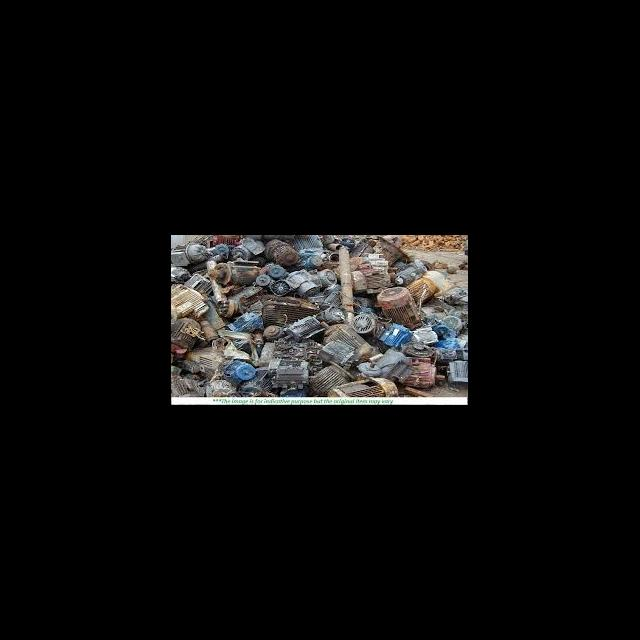metal: (320, 318, 378, 369), (372, 282, 424, 328), (266, 353, 318, 395), (332, 242, 358, 319), (206, 255, 264, 289), (322, 372, 398, 397), (406, 267, 451, 305), (398, 354, 443, 391), (172, 279, 210, 321), (278, 313, 324, 347), (308, 359, 354, 393), (172, 315, 204, 357), (374, 317, 414, 350), (262, 236, 302, 269), (282, 266, 322, 298), (218, 353, 256, 384), (225, 305, 262, 335), (442, 354, 468, 381), (348, 311, 378, 334), (264, 277, 294, 298), (260, 321, 284, 339)
